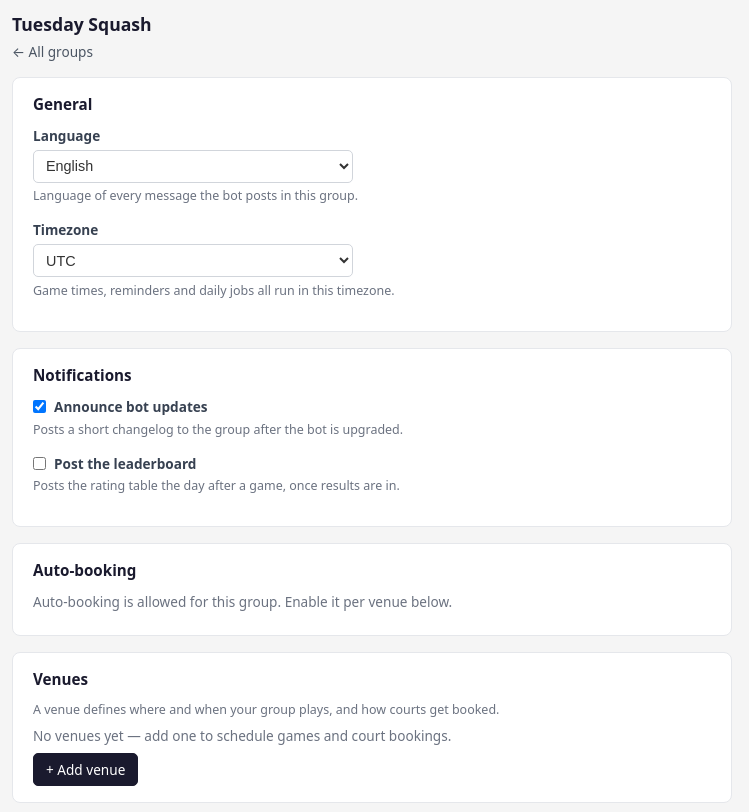
Test: GroupSettingsPage › reverts a toggle when the save fails
Click the checkbox labelled "Announce bot updates" at (40, 406), box [33, 400, 46, 413]
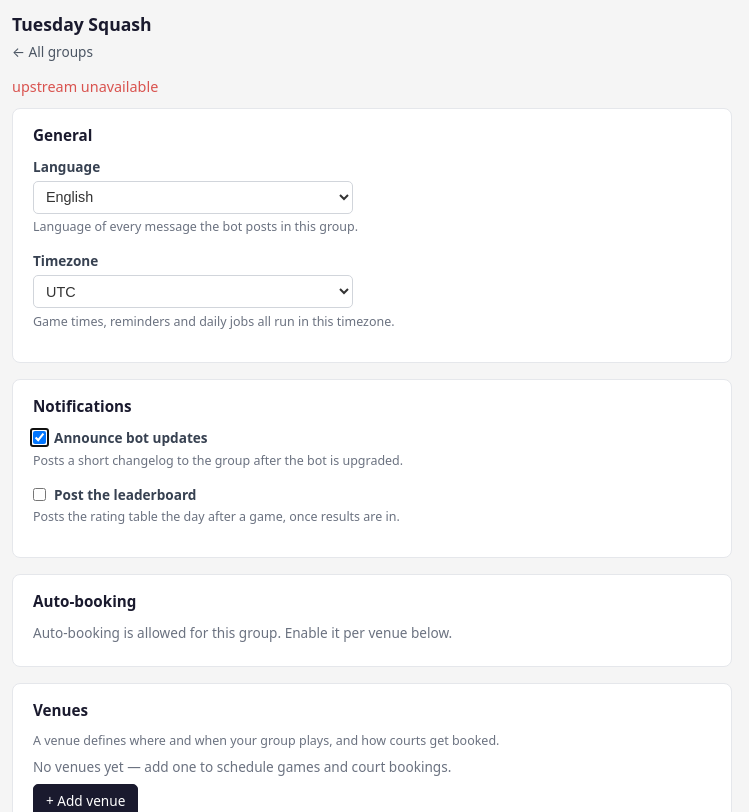
Expected: the checkbox labelled "Announce bot updates" is checked, [33, 431, 46, 444]
Expected: the text "upstream unavailable" is shown, [12, 77, 158, 96]
